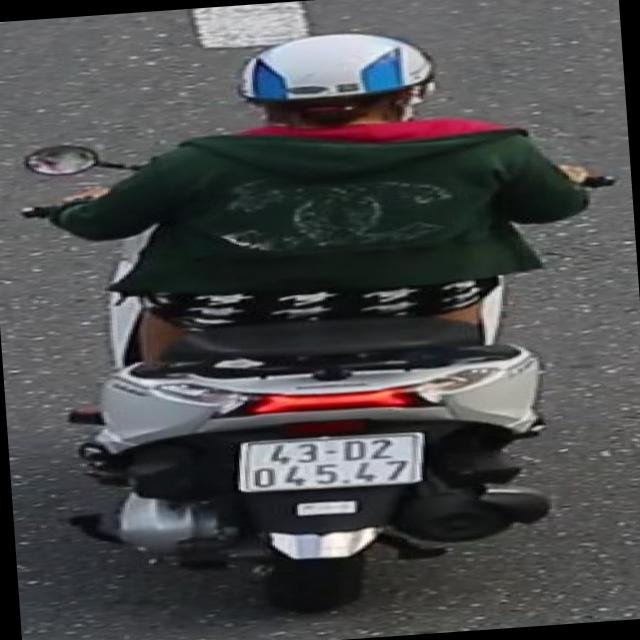LP: (227, 425, 435, 503)
helmet: (227, 21, 445, 139)
